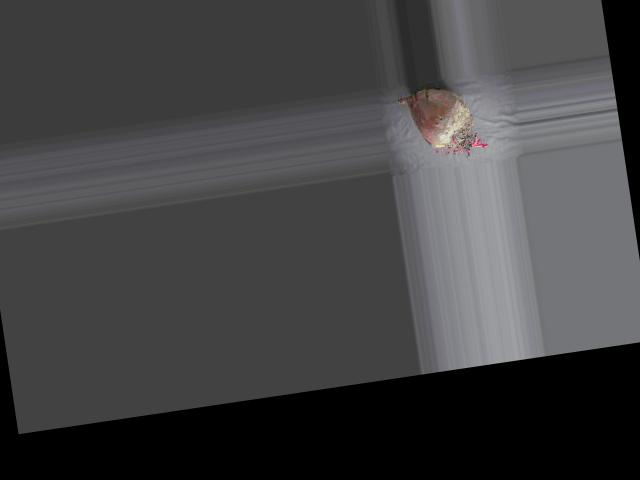beet: (395, 81, 490, 165)
